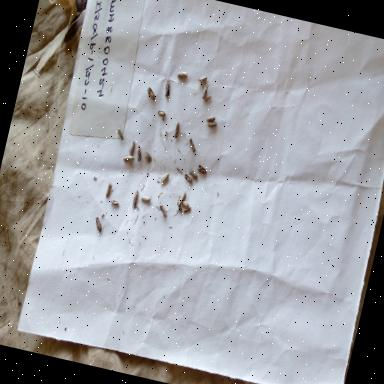pbw: (91, 215, 107, 238), (130, 144, 145, 166), (160, 78, 173, 103), (128, 190, 140, 214), (120, 152, 138, 168), (140, 148, 154, 166), (144, 85, 158, 103), (103, 181, 115, 202), (114, 127, 127, 146), (176, 191, 188, 210), (139, 192, 153, 208), (156, 203, 170, 219), (186, 138, 198, 156), (175, 68, 190, 82), (172, 120, 182, 140), (200, 82, 210, 102), (127, 140, 137, 160), (156, 108, 168, 124), (187, 167, 200, 181), (205, 118, 218, 132), (159, 170, 170, 186), (182, 203, 194, 216), (195, 164, 208, 176), (204, 114, 216, 126), (196, 74, 208, 86), (181, 174, 193, 186), (110, 198, 121, 210), (180, 199, 190, 210), (204, 92, 212, 104)
